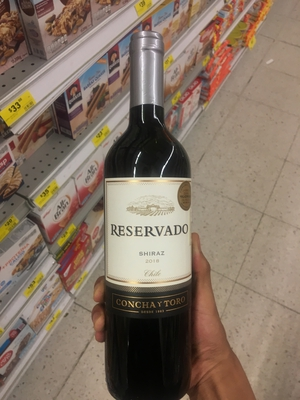reservado shiraz: (103, 30, 194, 398)
